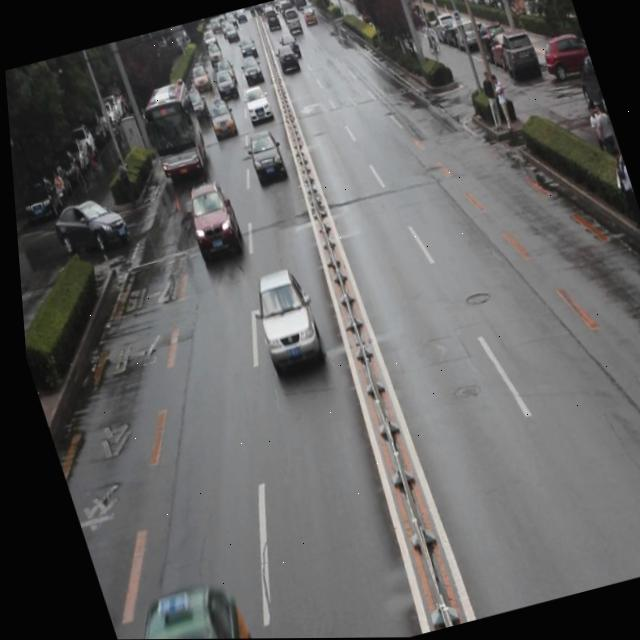car: (96, 575, 248, 640), (239, 266, 324, 375), (44, 191, 129, 262), (176, 179, 245, 265), (240, 130, 288, 184), (201, 97, 237, 141), (238, 84, 271, 125)
van: (135, 79, 210, 182)
